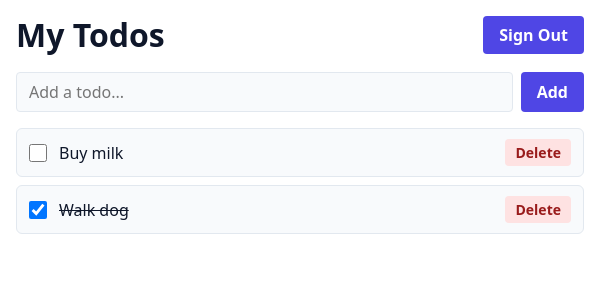
TodoApp › adds a new todo when form submitted
The image size is (602, 308).
Expected: the text "Buy milk" is shown, [59,142,123,164]
Type "New task" into the field with placeholder "Add a todo...". click: (264, 92)
box: [16,72,513,112]
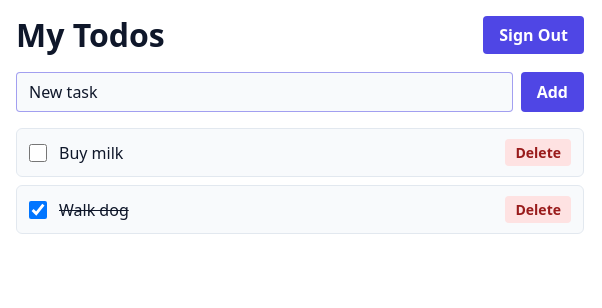
Click the button "Add". click: (552, 92)
box: [521,72,584,112]
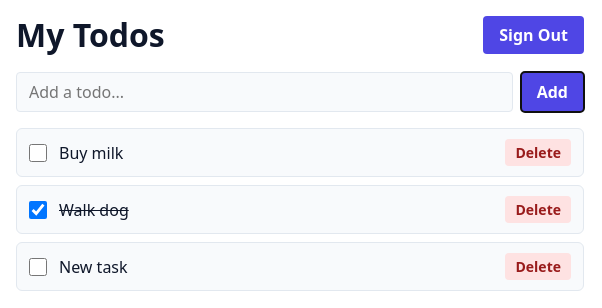
Now the text "New task" is shown, box [59,256,128,278]
